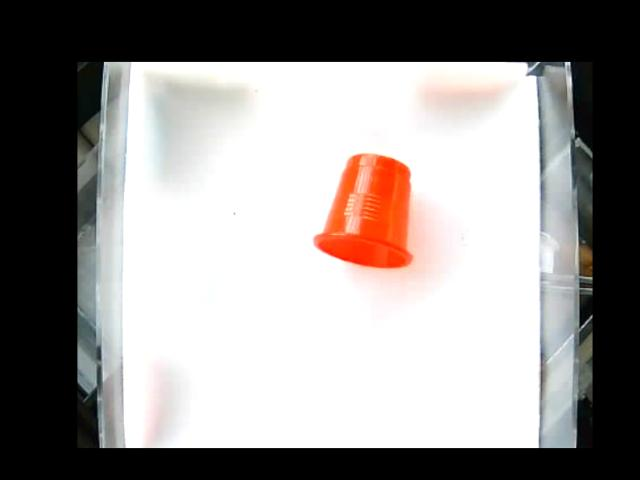Cup: (308, 153, 418, 267)
